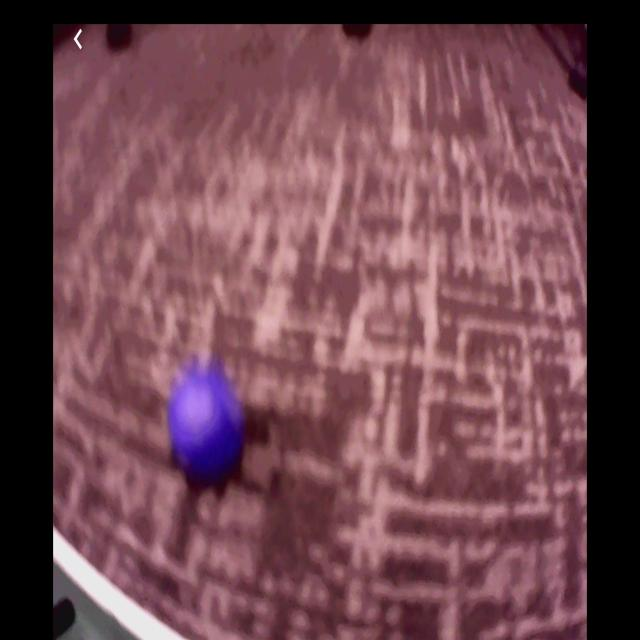ball: (172, 367, 247, 474)
